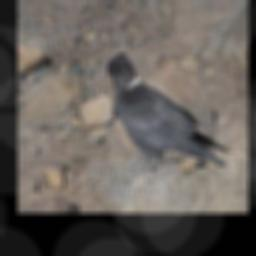Crow: (102, 52, 232, 188)
